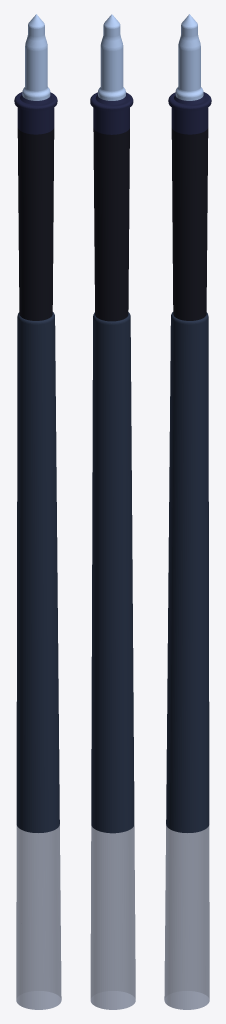
Rendered from pen1_3.fbx.
The picture shows the model from 3 angles, left to right: view 1: azimuth 90°, elevation 25°; view 2: azimuth 150°, elevation 25°; view 3: azimuth 270°, elevation 25°; orthographic projection.
Parts seen in each view (by area): view 1: pen1_3; view 2: pen1_3; view 3: pen1_3.
Part boxes in pixels (x1,y1,x2,y2): pen1_3: (14, 14, 61, 1009); pen1_3: (90, 14, 135, 1009); pen1_3: (164, 14, 211, 1009).
Bounding box in the file's own units: 4.73 × 114 × 4.93.
